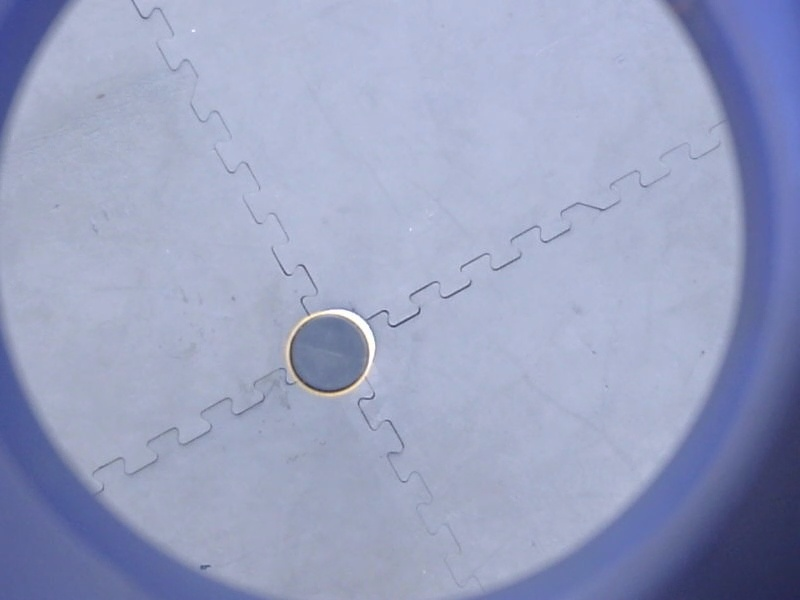tip: (283, 307, 375, 398)
